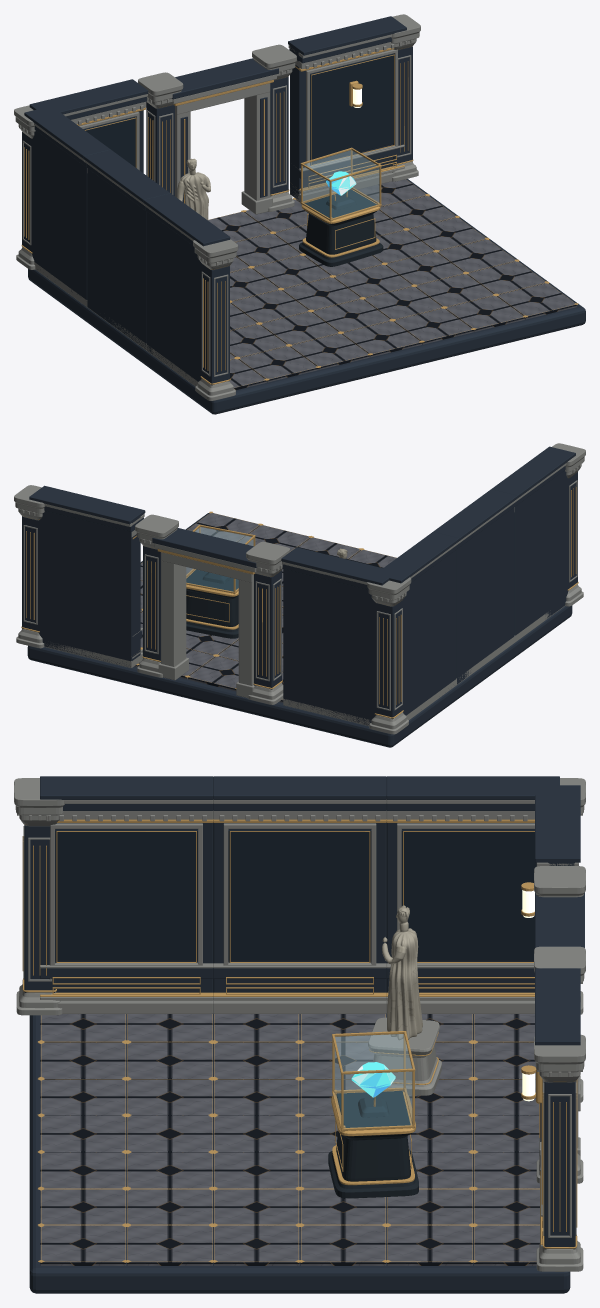
Rendered from DM_Museum_TestRoom.fbx.
3 views of the same model, one above another, from view 1: azimuth 30°, elevation 25°; view 2: azimuth 150°, elevation 25°; view 3: azimuth 270°, elevation 25° (orthographic). The views are drawn at different scales.
Visible parts, largest first — view 1: DM_Museum_TestRoom_Opaque, DM_Museum_TestRoom_Glass; view 2: DM_Museum_TestRoom_Opaque, DM_Museum_TestRoom_Glass; view 3: DM_Museum_TestRoom_Opaque, DM_Museum_TestRoom_Glass.
Boxes of the visible parts, left/top/right/bottom form: DM_Museum_TestRoom_Opaque: left=14, top=14, right=585, bottom=414; DM_Museum_TestRoom_Glass: left=303, top=150, right=379, bottom=217; DM_Museum_TestRoom_Opaque: left=14, top=443, right=585, bottom=747; DM_Museum_TestRoom_Glass: left=186, top=527, right=253, bottom=590; DM_Museum_TestRoom_Opaque: left=14, top=776, right=585, bottom=1293; DM_Museum_TestRoom_Glass: left=334, top=1034, right=412, bottom=1127.
Size of the model in its own units: 7.6 by 3.18 by 6.6.
